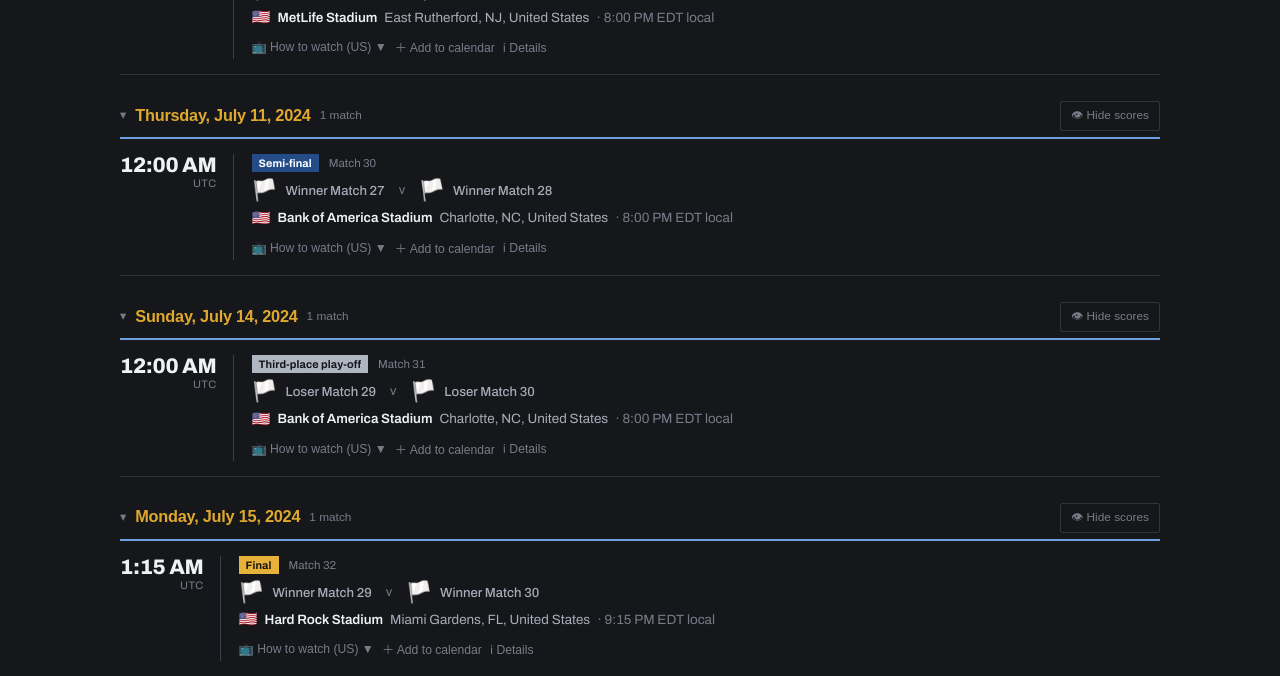
Test case: App coverage › per-day spoiler + collapse toggles work
(page scrolled)
What coordinates should you click on to do the following:
click the 2nd button "👁 Hide scores"
I would click on:
 (1110, 317)
Its box is [1060,302,1160,332].
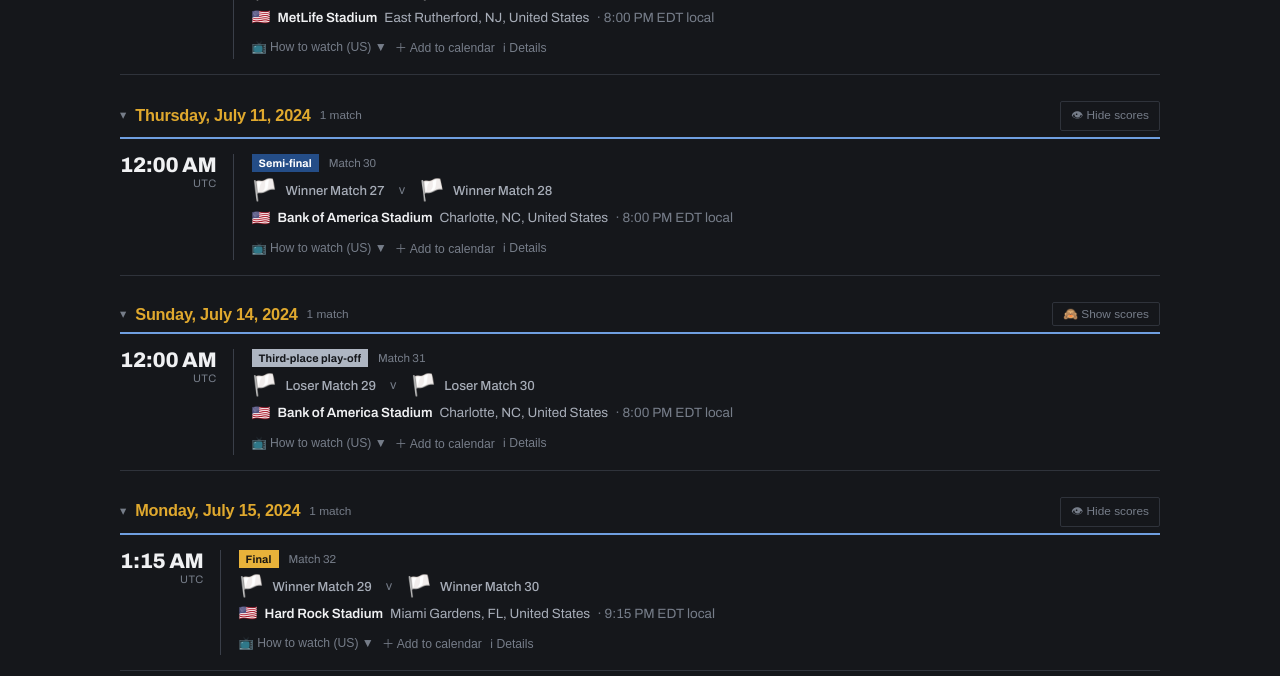
What coordinates should you click on to do the following:
click the button "🙈 Show scores"
I would click on:
 (1106, 314)
Its box is [1052,302,1160,326].
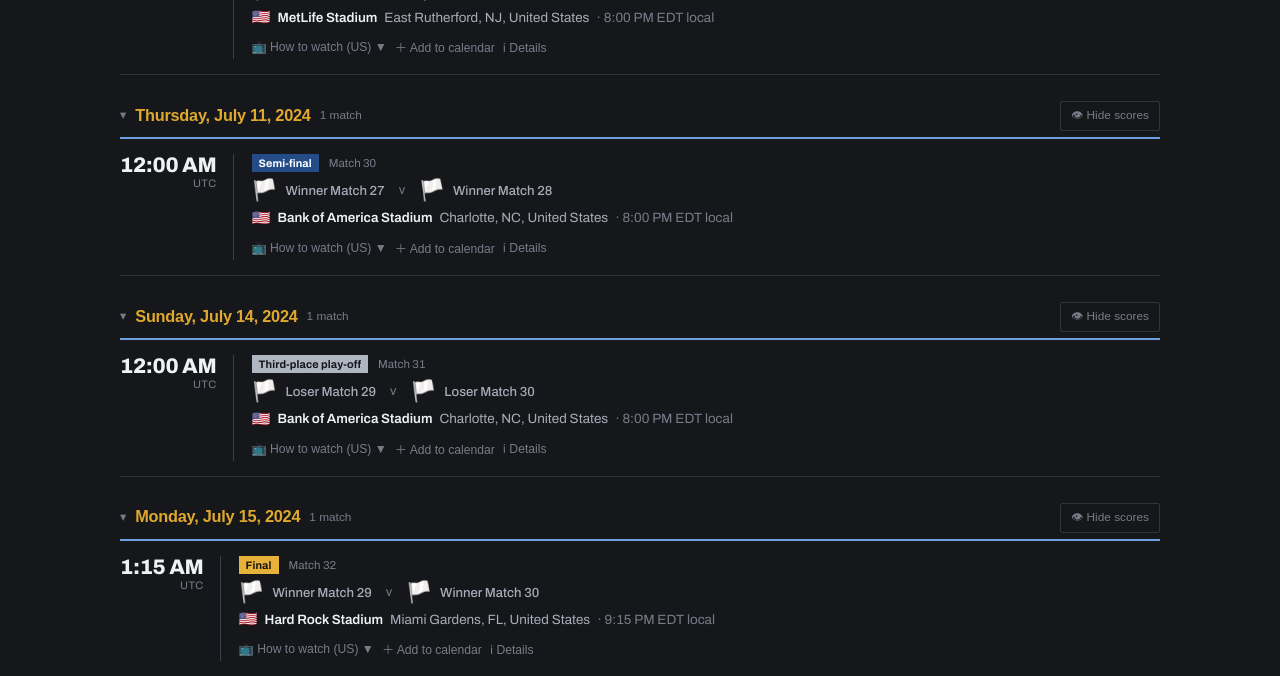
What coordinates should you click on to do the following:
click the button "▾ Sunday, July 14, 2024 1 match"
I would click on:
 (216, 316)
Its box is [120,307,1048,326].
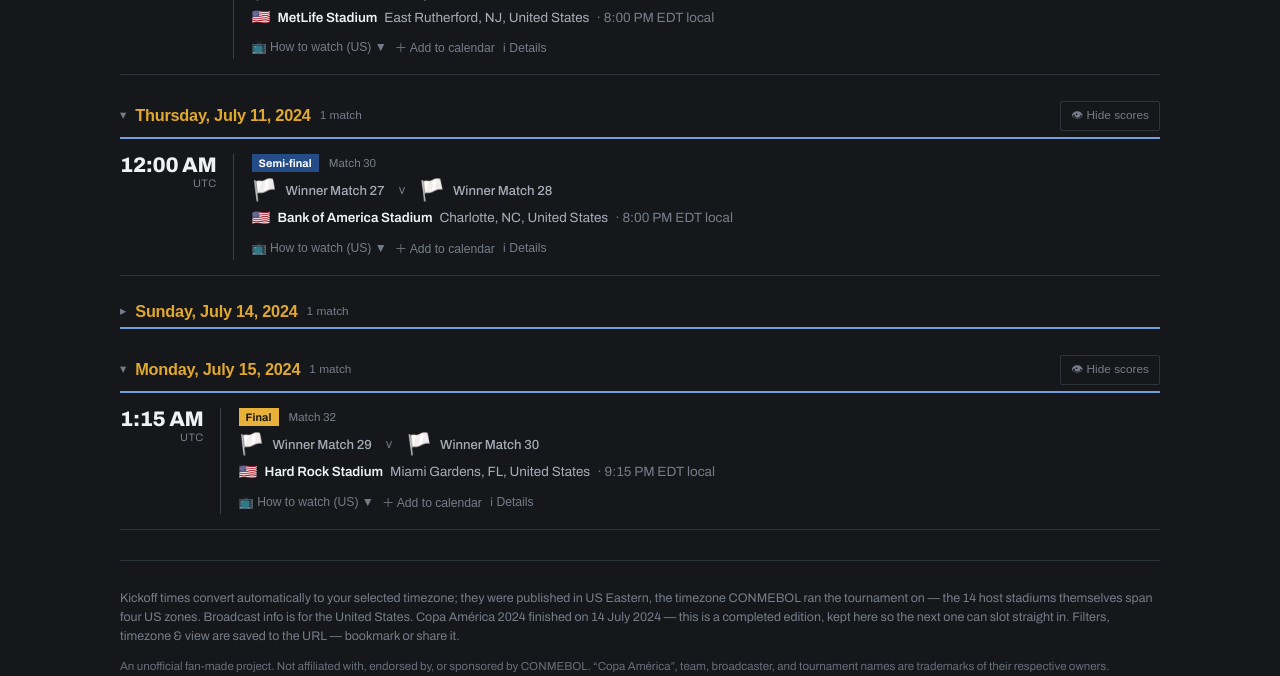
Expected: the button "▸ Sunday, July 14, 2024 1 match" is collapsed
What coordinates should you click on to do the following:
click the button "▸ Sunday, July 14, 2024 1 match"
I would click on:
 (216, 311)
Its box is [120,302,1160,321].
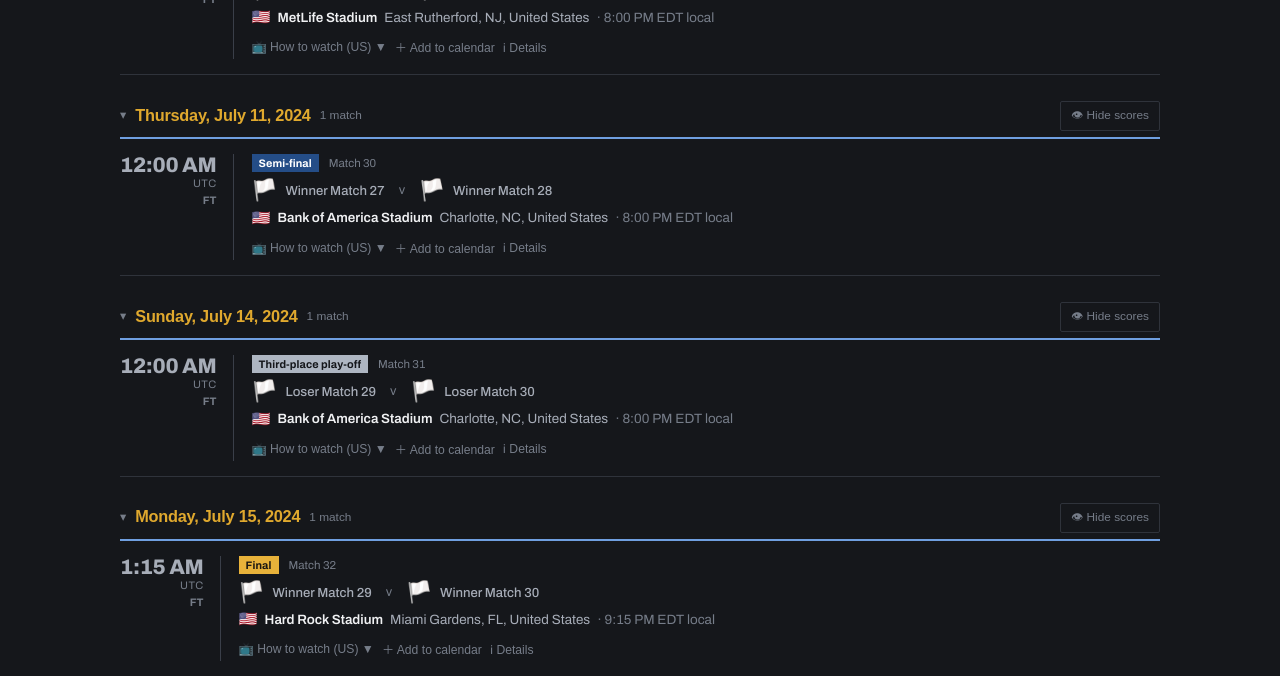
Expected: the button "▾ Sunday, July 14, 2024 1 match" is expanded, [120,307,1048,326]
